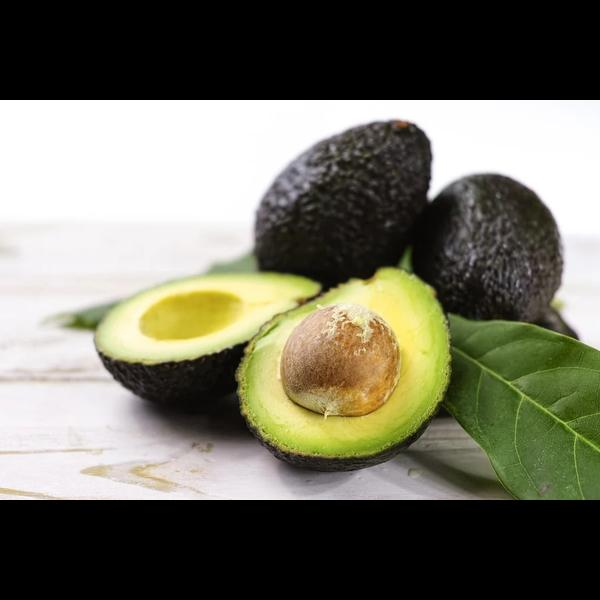ripe: (253, 120, 433, 292), (411, 174, 563, 324)
